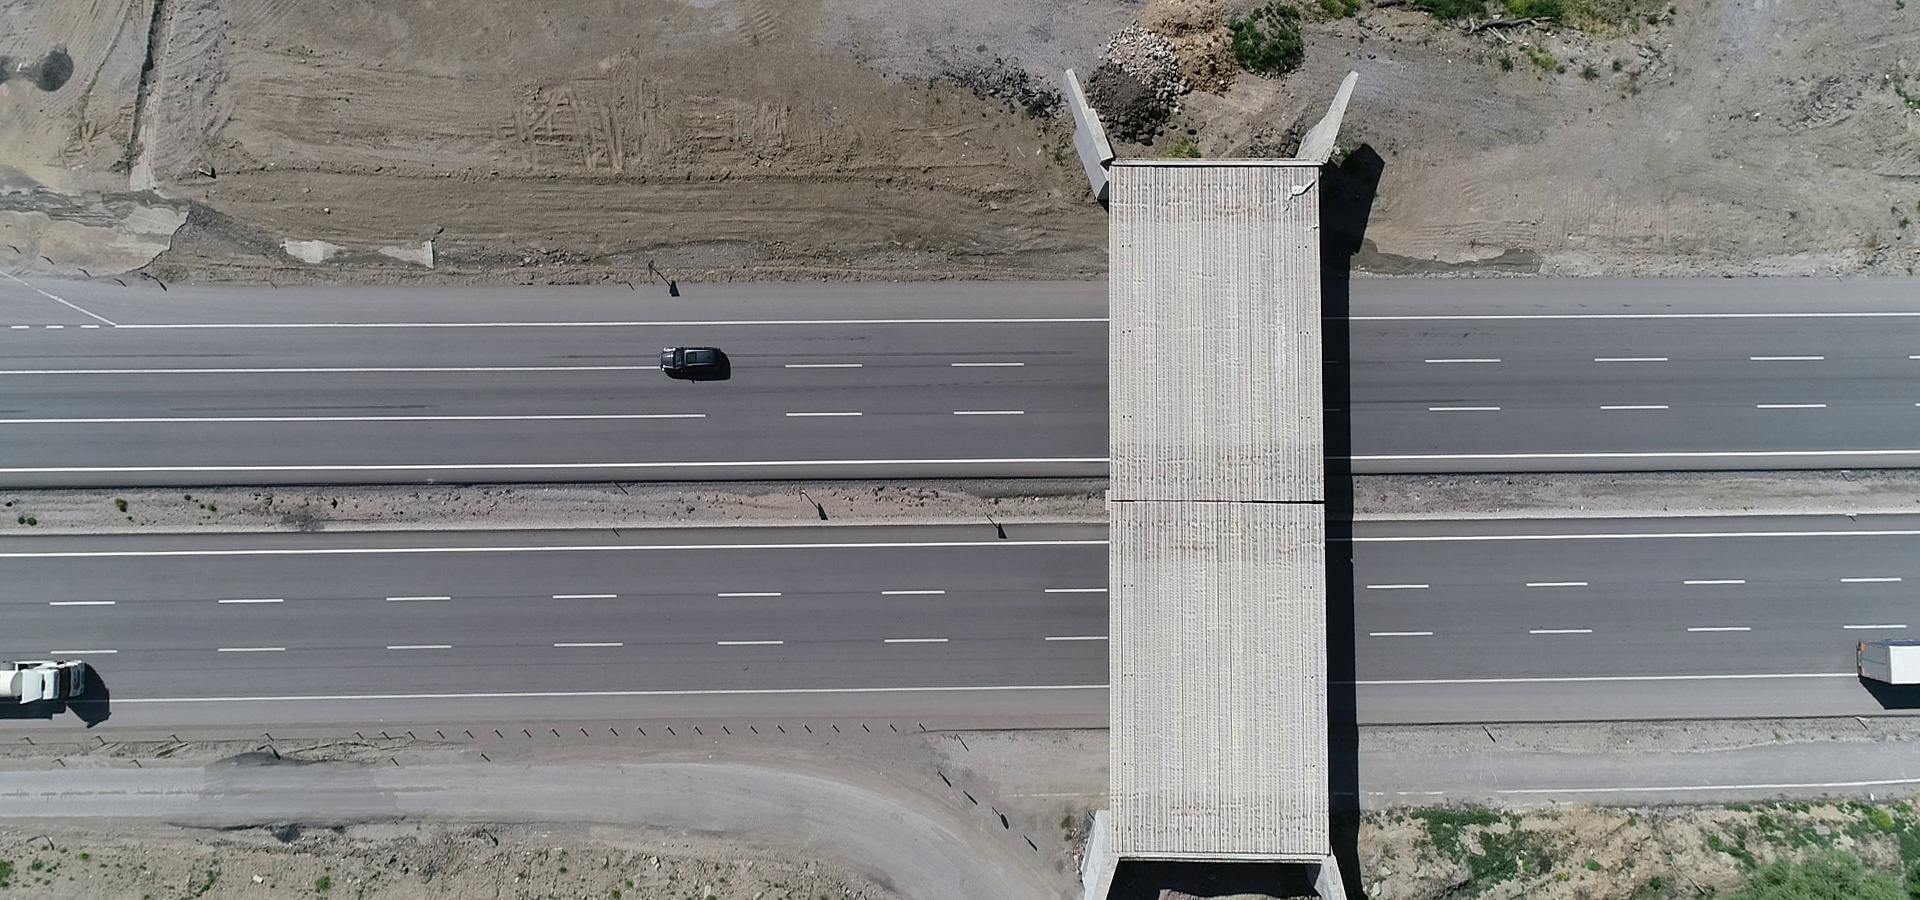arac: (1, 651, 92, 707), (1848, 631, 1920, 693), (655, 342, 733, 373)
